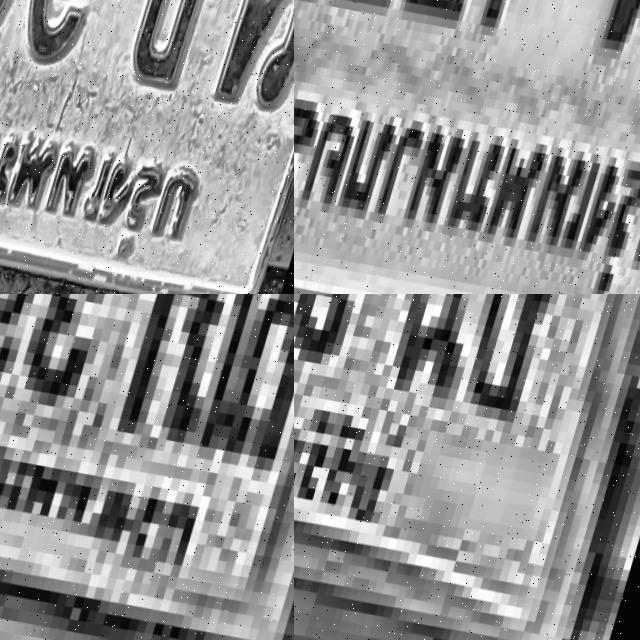license-plate: (294, 294, 640, 640), (294, 0, 640, 294), (0, 294, 294, 640), (0, 0, 294, 294)
